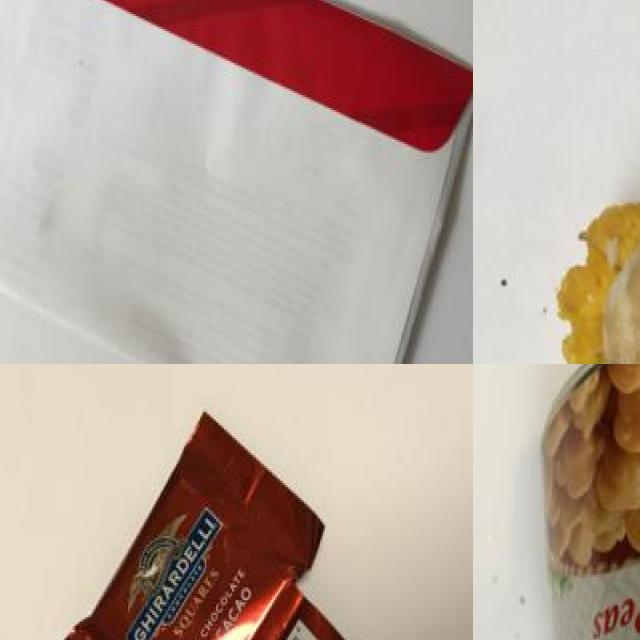compost: (555, 174, 640, 364)
paper: (0, 0, 468, 364)
plastic: (542, 364, 640, 640)
trash: (50, 410, 391, 640)
